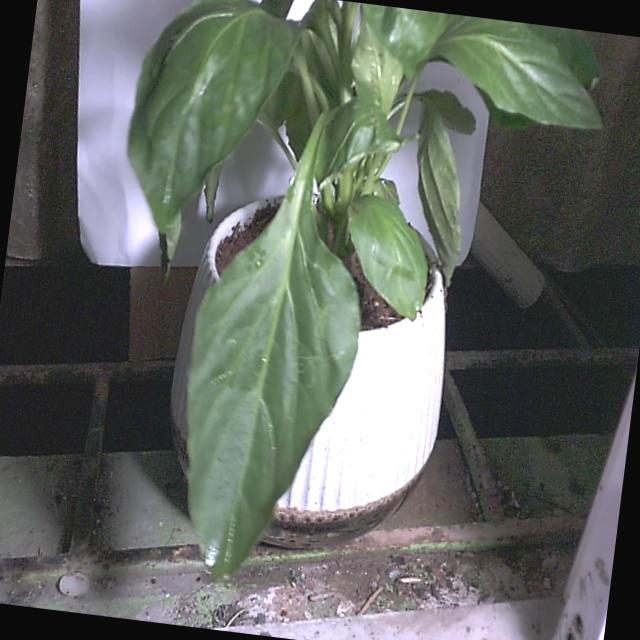Leaf: (162, 177, 378, 588), (112, 0, 303, 287), (428, 12, 616, 134), (334, 188, 437, 326)
